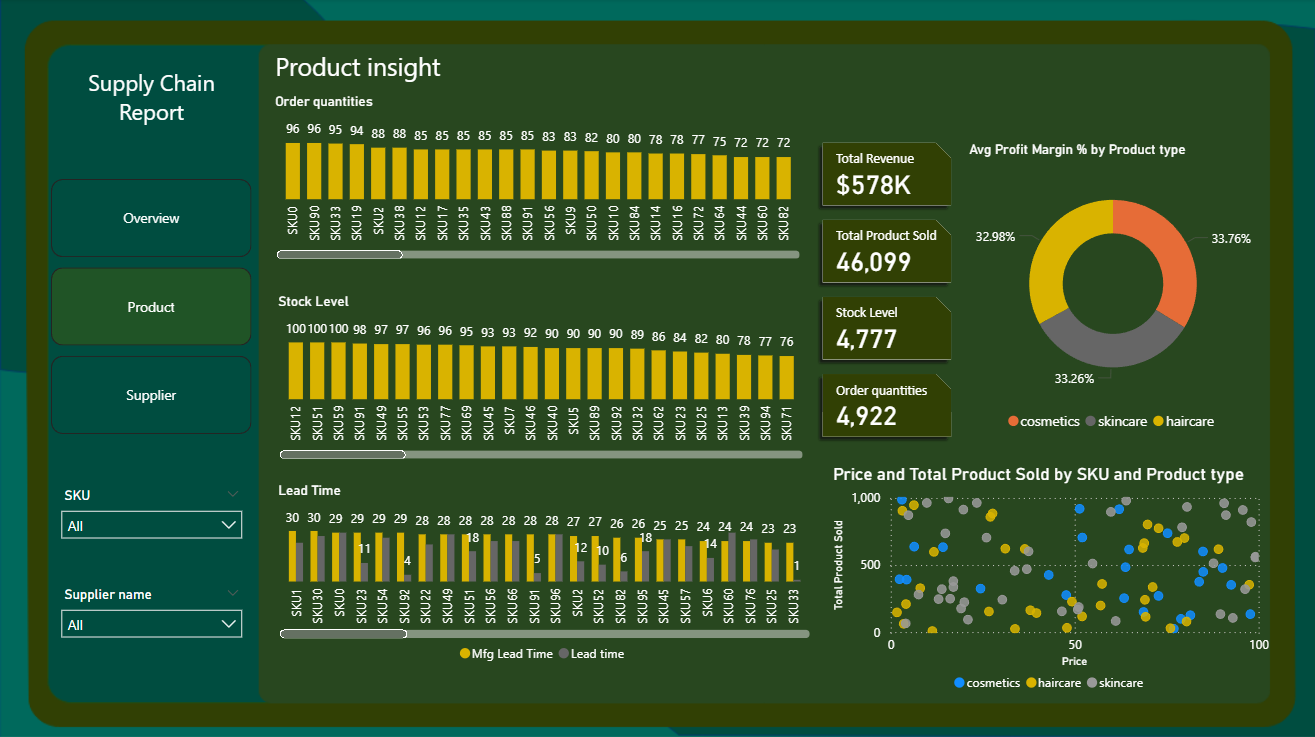

This screenshot's page, from the dashboard's own definition file:
{"tool":"powerbi","page":{"name":"Product","canvas":[1280,720],"ordinal":1},"visuals":[{"type":"columnChart","title":"Order quantities","fields":{"Y":["Sum(supply_chain_data.Order quantities)"],"Category":["supply_chain_data.SKU"]},"box":[262.6,92.4,520.4,165.3],"z":0},{"type":"pageNavigator","box":[49.6,175.1,195.5,248],"z":0,"group":"g1"},{"type":"columnChart","title":"Stock Level","fields":{"Category":["supply_chain_data.SKU"],"Y":["_Measures.Stock Level"]},"box":[265.5,286.9,520.4,165.3],"z":1000},{"type":"slicer","fields":{"Values":["supply_chain_data.SKU"]},"box":[49.6,470.8,195.5,86.6],"z":1000,"group":"g1"},{"type":"clusteredColumnChart","title":"Lead Time","fields":{"Category":["supply_chain_data.SKU"],"Y":["Sum(supply_chain_data.Mfg lead time)","Sum(supply_chain_data.Lead time)"]},"box":[265.5,470.8,527.2,183.8],"z":2000},{"type":"slicer","fields":{"Values":["supply_chain_data.Supplier name"]},"box":[49.6,567.1,195.5,86.6],"z":2000,"group":"g1"},{"type":"textbox","box":[49.6,61.3,195.5,77.8],"z":3000,"group":"g1"},{"type":"cardVisual","fields":{"Data":["_Measures.Total Revenue","_Measures.Total Product Sold","_Measures.Stock Level","Sum(supply_chain_data.Order quantities)"]},"box":[776.2,115.7,173.1,336.5],"z":3000},{"type":"donutChart","fields":{"Y":["_Measures.Avg Profit Margin %"],"Category":["supply_chain_data.Product type"]},"box":[937.6,139.1,289.8,289.8],"z":4000},{"type":"scatterChart","title":"Price and Total Product Sold by SKU and Product type","fields":{"Category":["supply_chain_data.SKU"],"X":["Sum(supply_chain_data.Price)"],"Y":["_Measures.Total Product Sold"],"Series":["supply_chain_data.Product type"]},"box":[805.3,452.3,433.8,230.5],"z":5000},{"type":"textbox","box":[262.6,43.8,314.2,54.5],"z":6000},{"type":"group","id":"g1","title":"Group 1","box":[49.6,61.3,195.5,592.3],"z":7000}]}

Visuals, with their boxes in screenshot pixels (x1, y1, x2, y2), scaled from the page's 1280x720 canvas onto the 1315x737 screenshot:
"Order quantities" columnChart: 270 95 804 264
pageNavigator: 51 179 252 433
"Stock Level" columnChart: 273 294 807 463
slicer - supply_chain_data.SKU: 51 482 252 571
"Lead Time" clusteredColumnChart: 273 482 814 670
slicer - supply_chain_data.Supplier name: 51 580 252 669
textbox: 51 63 252 142
cardVisual - _Measures.Total Revenue x _Measures.Total Product Sold: 797 118 975 463
donutChart - _Measures.Avg Profit Margin % x supply_chain_data.Product type: 963 142 1261 439
"Price and Total Product Sold by SKU and Product type" scatterChart: 827 463 1273 699
textbox: 270 45 593 101
"Group 1" group: 51 63 252 669
